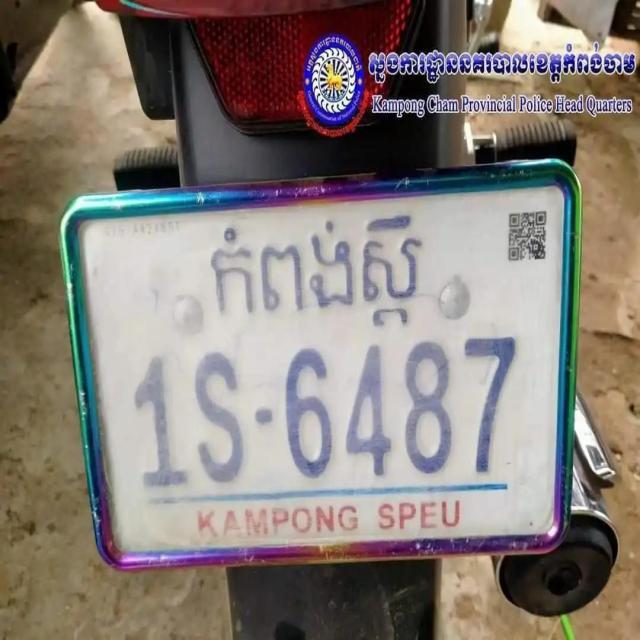Kampong_Speu: (208, 214, 423, 332)
